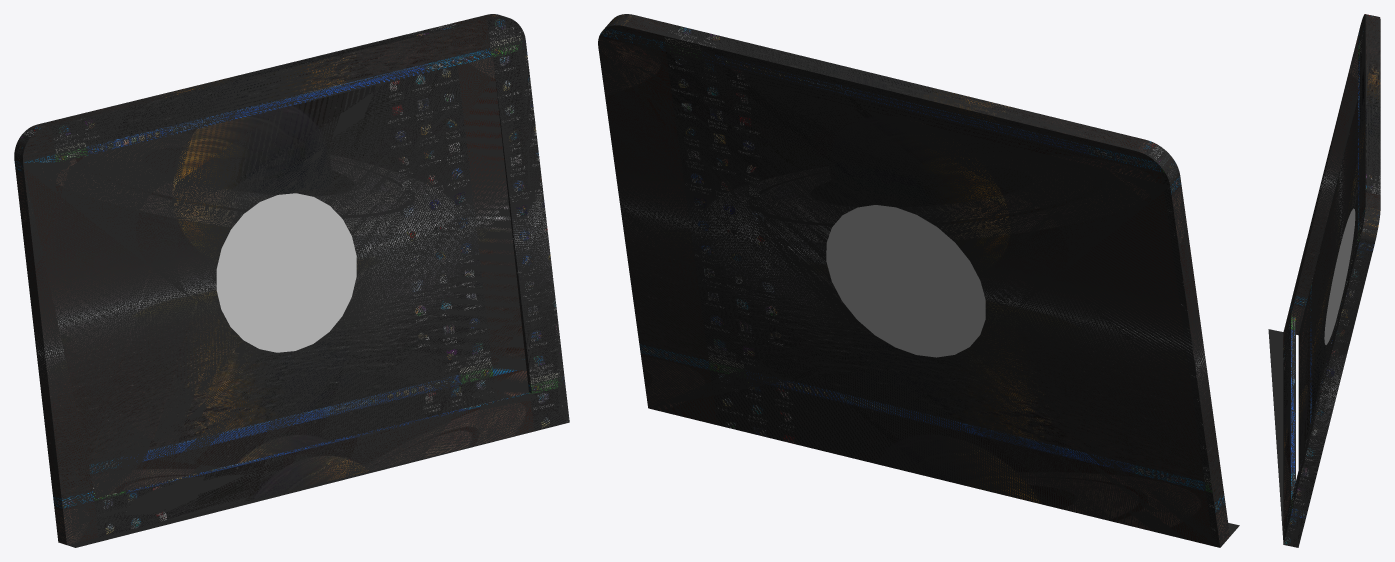
The picture shows the model from 3 angles, left to right: view 1: azimuth 30°, elevation 25°; view 2: azimuth 150°, elevation 25°; view 3: azimuth 270°, elevation 25°; orthographic projection. The views are drawn at different scales.
Size of the model in its own units: 1.27 by 0.916 by 0.2819.
